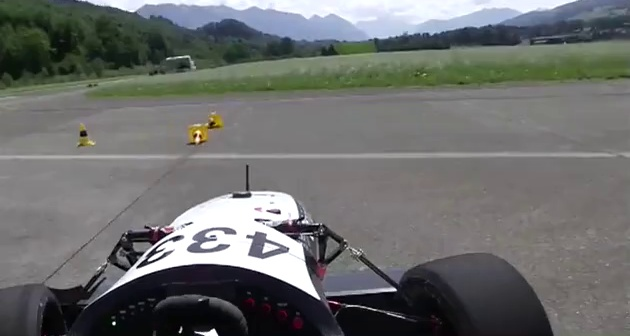Cone: (74, 121, 95, 148)
